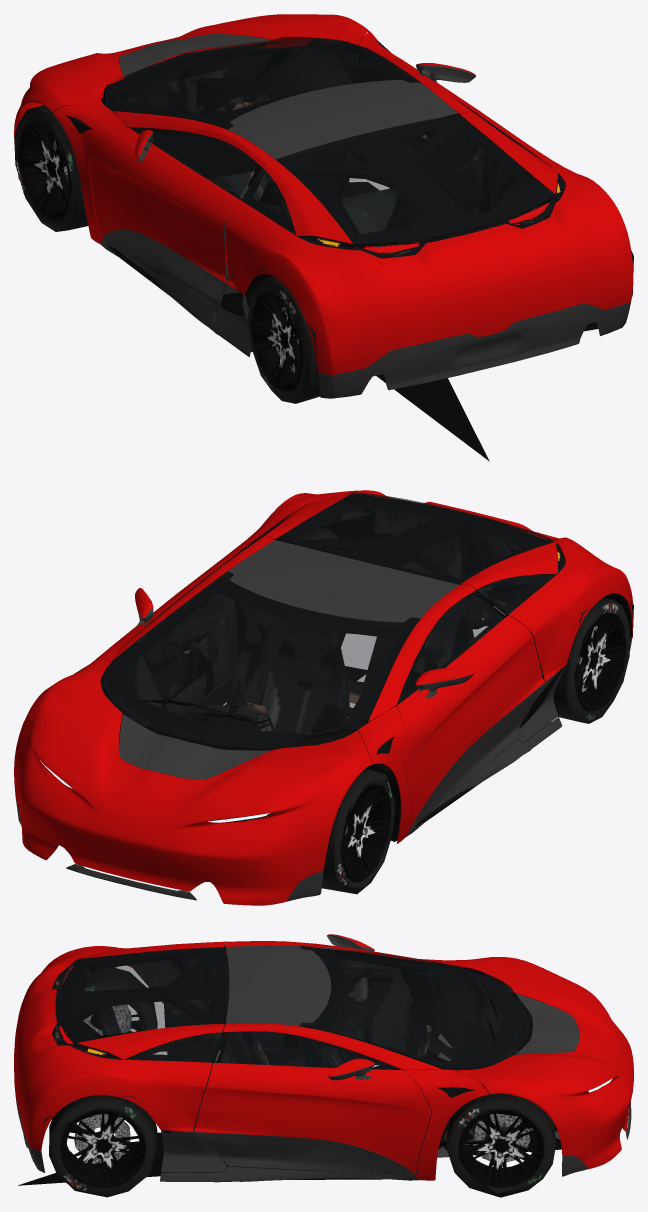
The model's file is carconcept.glb.
The picture shows the model from 3 angles, top to bottom: view 1: azimuth 30°, elevation 25°; view 2: azimuth 150°, elevation 25°; view 3: azimuth 270°, elevation 25°; orthographic projection. The views are drawn at different scales.
Visible parts, largest first — view 1: Body, Glass, Interior, Body2, WheelFL, WheelRL, Trim, LightsRear; view 2: Body, Interior, Glass, Body2, WheelRL, WheelFL, Trim; view 3: Body, Glass, Interior, Body2, WheelFR, WheelRR, WheelRL, Trim, LightsRear.
Part boxes in pixels (x1,y1,x2,y2): Body: (14, 14, 633, 374); Glass: (114, 38, 555, 244); Interior: (66, 39, 633, 372); Body2: (18, 34, 631, 398); WheelFL: (14, 105, 88, 231); WheelRL: (248, 276, 320, 403); Trim: (112, 42, 489, 461); LightsRear: (300, 174, 564, 258); Body: (14, 490, 632, 905); Interior: (73, 494, 633, 841); Glass: (104, 492, 555, 748); Body2: (15, 540, 631, 901); WheelRL: (553, 597, 629, 723); WheelFL: (321, 768, 395, 894); Trim: (136, 699, 374, 822); Body: (14, 934, 633, 1180); Glass: (58, 946, 528, 1069); Interior: (39, 944, 532, 1179); Body2: (15, 935, 631, 1182); WheelFR: (446, 1087, 556, 1197); WheelRR: (49, 1095, 157, 1197); WheelRL: (83, 968, 157, 1035); Trim: (18, 994, 561, 1185); LightsRear: (52, 959, 119, 1059).
Size of the model in its own units: 7.95 by 5.35 by 14.82.
7 materials, 4 textured.
